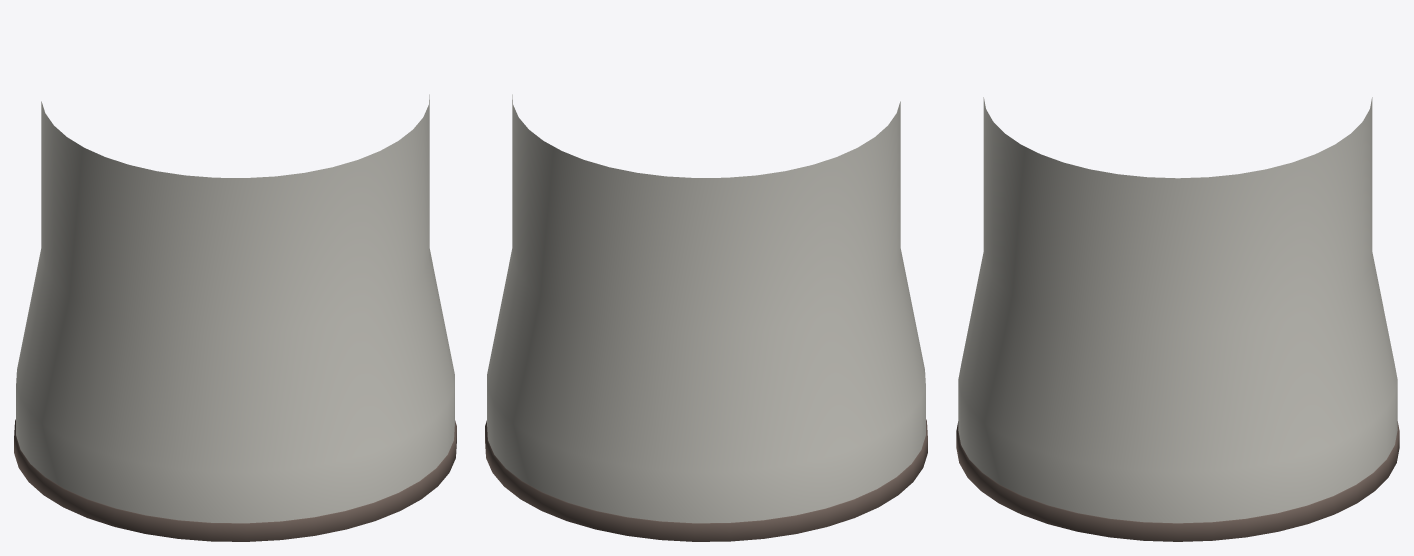
Rendered from atlas_v_srb_03.aft_skirt.glb.
3 renders of one model, left to right at view 1: azimuth 30°, elevation 25°; view 2: azimuth 150°, elevation 25°; view 3: azimuth 270°, elevation 25°, orthographic.
Visible parts, largest first — view 1: atlas_v_srb_03.aft_skirt.mesh_Warm_white_enamel, atlas_v_srb_03.aft_skirt.mesh_Heat-stained_alloy; view 2: atlas_v_srb_03.aft_skirt.mesh_Warm_white_enamel, atlas_v_srb_03.aft_skirt.mesh_Heat-stained_alloy; view 3: atlas_v_srb_03.aft_skirt.mesh_Warm_white_enamel, atlas_v_srb_03.aft_skirt.mesh_Heat-stained_alloy.
Boxes of the visible parts, left/top/right/bottom form: atlas_v_srb_03.aft_skirt.mesh_Warm_white_enamel: left=16, top=94, right=454, bottom=523; atlas_v_srb_03.aft_skirt.mesh_Heat-stained_alloy: left=14, top=419, right=456, bottom=541; atlas_v_srb_03.aft_skirt.mesh_Warm_white_enamel: left=487, top=94, right=925, bottom=523; atlas_v_srb_03.aft_skirt.mesh_Heat-stained_alloy: left=485, top=419, right=927, bottom=541; atlas_v_srb_03.aft_skirt.mesh_Warm_white_enamel: left=958, top=97, right=1397, bottom=523; atlas_v_srb_03.aft_skirt.mesh_Heat-stained_alloy: left=956, top=421, right=1399, bottom=541.
Size of the model in its own units: 1.8 by 1.58 by 1.8.
